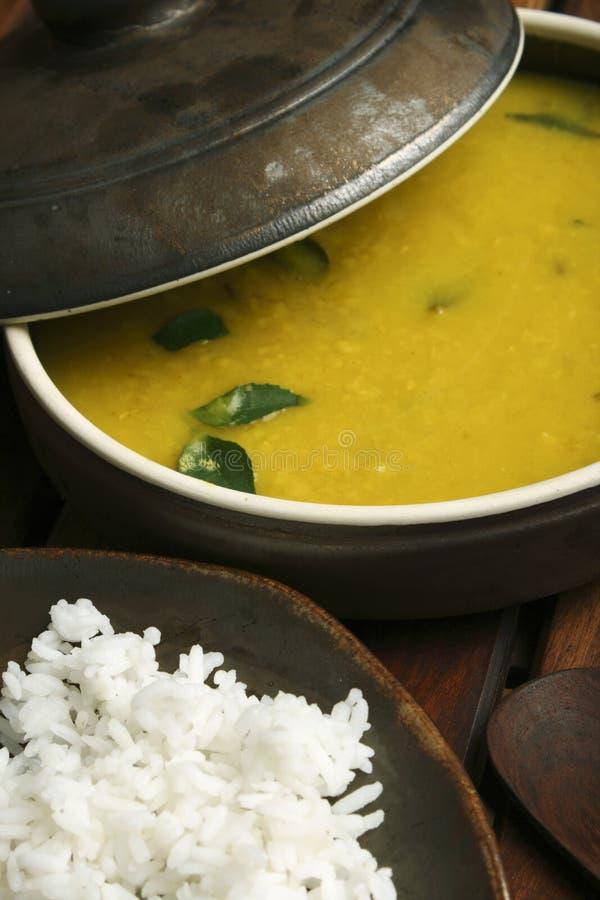rice: (5, 572, 398, 900)
varan: (23, 52, 600, 531)
